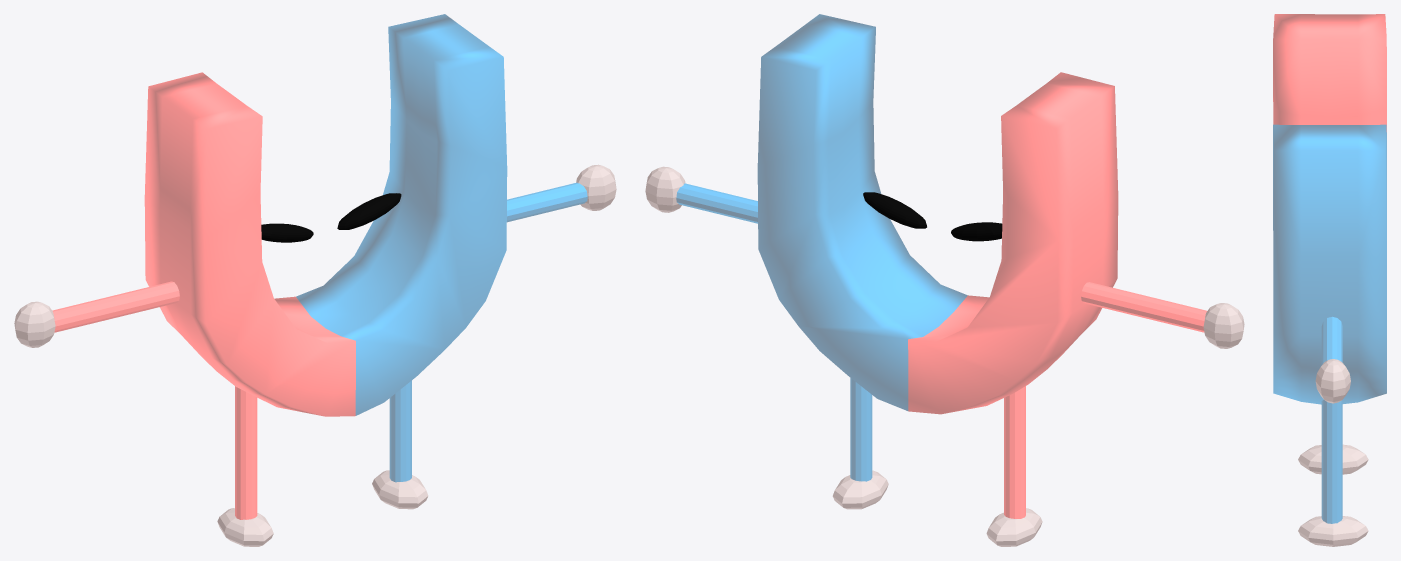
The model's file is magnet 2.fbx.
The picture shows the model from 3 angles, left to right: view 1: azimuth 30°, elevation 25°; view 2: azimuth 150°, elevation 25°; view 3: azimuth 270°, elevation 25°; orthographic projection. The views are drawn at different scales.
Parts seen in each view (by area): view 1: Body, pCylinder6, pCylinder7, pCylinder1, pCylinder8, pSphere5, pSphere8, pSphere7, pSphere6, pSphere9, pSphere1; view 2: Body, pCylinder7, pCylinder6, pCylinder1, pCylinder8, pSphere5, pSphere8, pSphere7, pSphere6, pSphere9, pSphere1; view 3: Body, pCylinder1, pSphere8, pSphere6, pSphere7, pCylinder8.
Boxes of the visible parts, <box> form: Body: <box>144,14,507,416</box>; pCylinder6: <box>235,386,257,519</box>; pCylinder7: <box>52,281,179,332</box>; pCylinder1: <box>389,380,411,482</box>; pCylinder8: <box>507,182,587,222</box>; pSphere5: <box>14,301,55,347</box>; pSphere8: <box>372,470,428,509</box>; pSphere7: <box>217,508,273,546</box>; pSphere6: <box>576,164,616,210</box>; pSphere9: <box>337,193,401,229</box>; pSphere1: <box>261,223,313,242</box>; Body: <box>757,14,1118,414</box>; pCylinder7: <box>1081,282,1206,332</box>; pCylinder6: <box>1004,386,1025,518</box>; pCylinder1: <box>850,378,872,481</box>; pCylinder8: <box>676,183,757,223</box>; pSphere5: <box>1203,303,1244,348</box>; pSphere8: <box>832,470,888,509</box>; pSphere7: <box>986,508,1042,546</box>; pSphere6: <box>645,166,685,212</box>; pSphere9: <box>863,192,926,228</box>; pSphere1: <box>951,222,1002,241</box>; Body: <box>1273,14,1386,404</box>; pCylinder1: <box>1321,400,1342,523</box>; pSphere8: <box>1298,516,1368,546</box>; pSphere6: <box>1315,359,1350,403</box>; pSphere7: <box>1298,444,1368,474</box>; pCylinder8: <box>1321,316,1342,364</box>.
Size of the model in its own units: 11.52 by 8.29 by 2.
